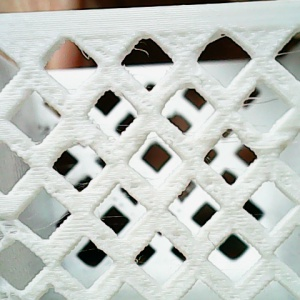3dpstringing: (20, 211, 73, 234), (211, 127, 252, 153), (241, 94, 279, 113), (131, 45, 154, 58), (276, 49, 300, 61), (79, 45, 91, 63), (96, 213, 122, 221), (29, 138, 44, 149)
3dpunderextrusion: (1, 211, 17, 249), (42, 282, 67, 298)
